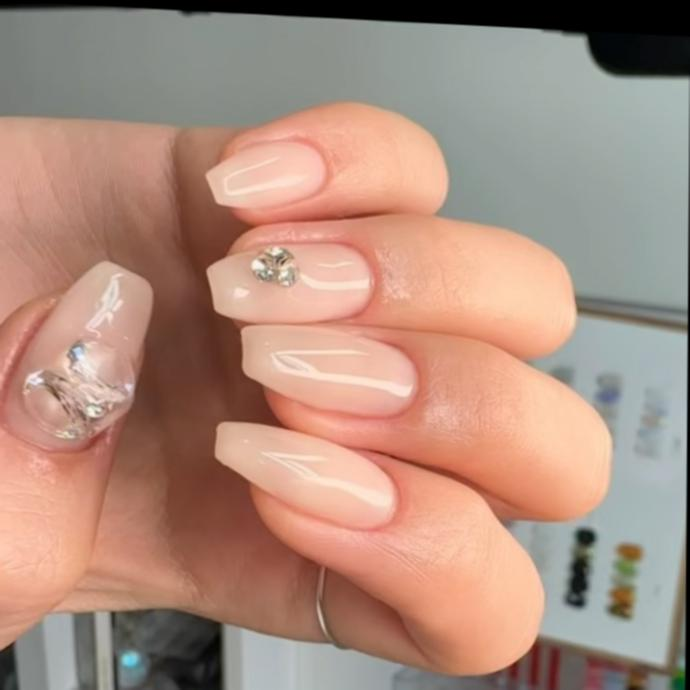nail: (0, 254, 156, 458), (213, 419, 402, 533), (240, 321, 422, 421), (206, 235, 377, 330), (206, 133, 331, 214)
